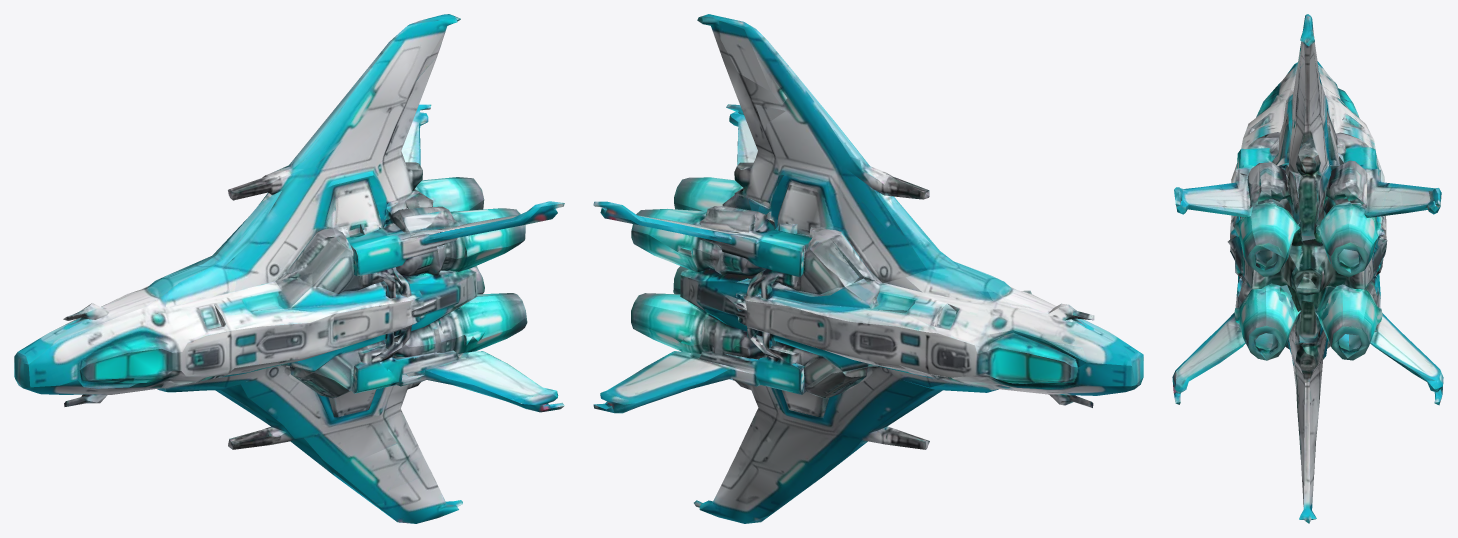
File: player-ship.glb
3 views of the same model, side by side, from view 1: azimuth 30°, elevation 25°; view 2: azimuth 150°, elevation 25°; view 3: azimuth 270°, elevation 25° (orthographic).
Parts seen in each view (by area): view 1: geometry_0; view 2: geometry_0; view 3: geometry_0.
Boxes of the visible parts, box(x1,y1,x2,y2) form: geometry_0: box(14, 14, 564, 523); geometry_0: box(593, 14, 1143, 523); geometry_0: box(1172, 14, 1443, 523).
Size of the model in its own units: 1 by 1 by 0.5014.
1 material, 1 textured.
